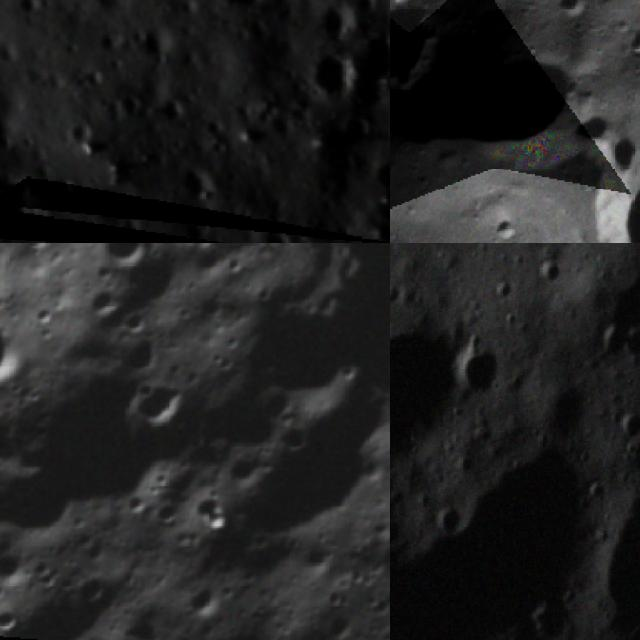crater: (8, 339, 214, 542), (428, 16, 620, 215), (225, 286, 389, 455), (0, 448, 97, 570), (390, 0, 483, 125), (100, 243, 203, 336), (390, 308, 457, 445), (585, 477, 640, 640), (120, 363, 204, 452), (289, 37, 373, 119), (304, 101, 389, 181), (178, 568, 249, 640), (334, 15, 390, 104), (355, 465, 390, 607), (0, 309, 47, 411), (0, 161, 54, 243), (221, 440, 289, 504), (560, 102, 622, 166), (454, 333, 504, 405), (118, 327, 175, 389), (126, 15, 181, 72), (189, 0, 295, 29), (305, 0, 368, 47), (272, 409, 324, 464), (85, 243, 161, 280), (538, 384, 586, 442), (521, 595, 574, 640), (231, 211, 304, 243), (542, 0, 602, 31), (426, 496, 466, 538), (362, 145, 390, 204), (614, 18, 640, 74), (597, 324, 633, 361), (0, 601, 29, 640), (536, 252, 563, 292), (616, 327, 640, 370), (0, 243, 18, 298), (19, 243, 68, 263), (614, 409, 640, 446), (490, 276, 520, 305), (11, 0, 45, 21), (460, 630, 525, 640), (78, 628, 125, 640), (588, 476, 608, 504), (83, 243, 124, 252), (390, 277, 402, 306)
